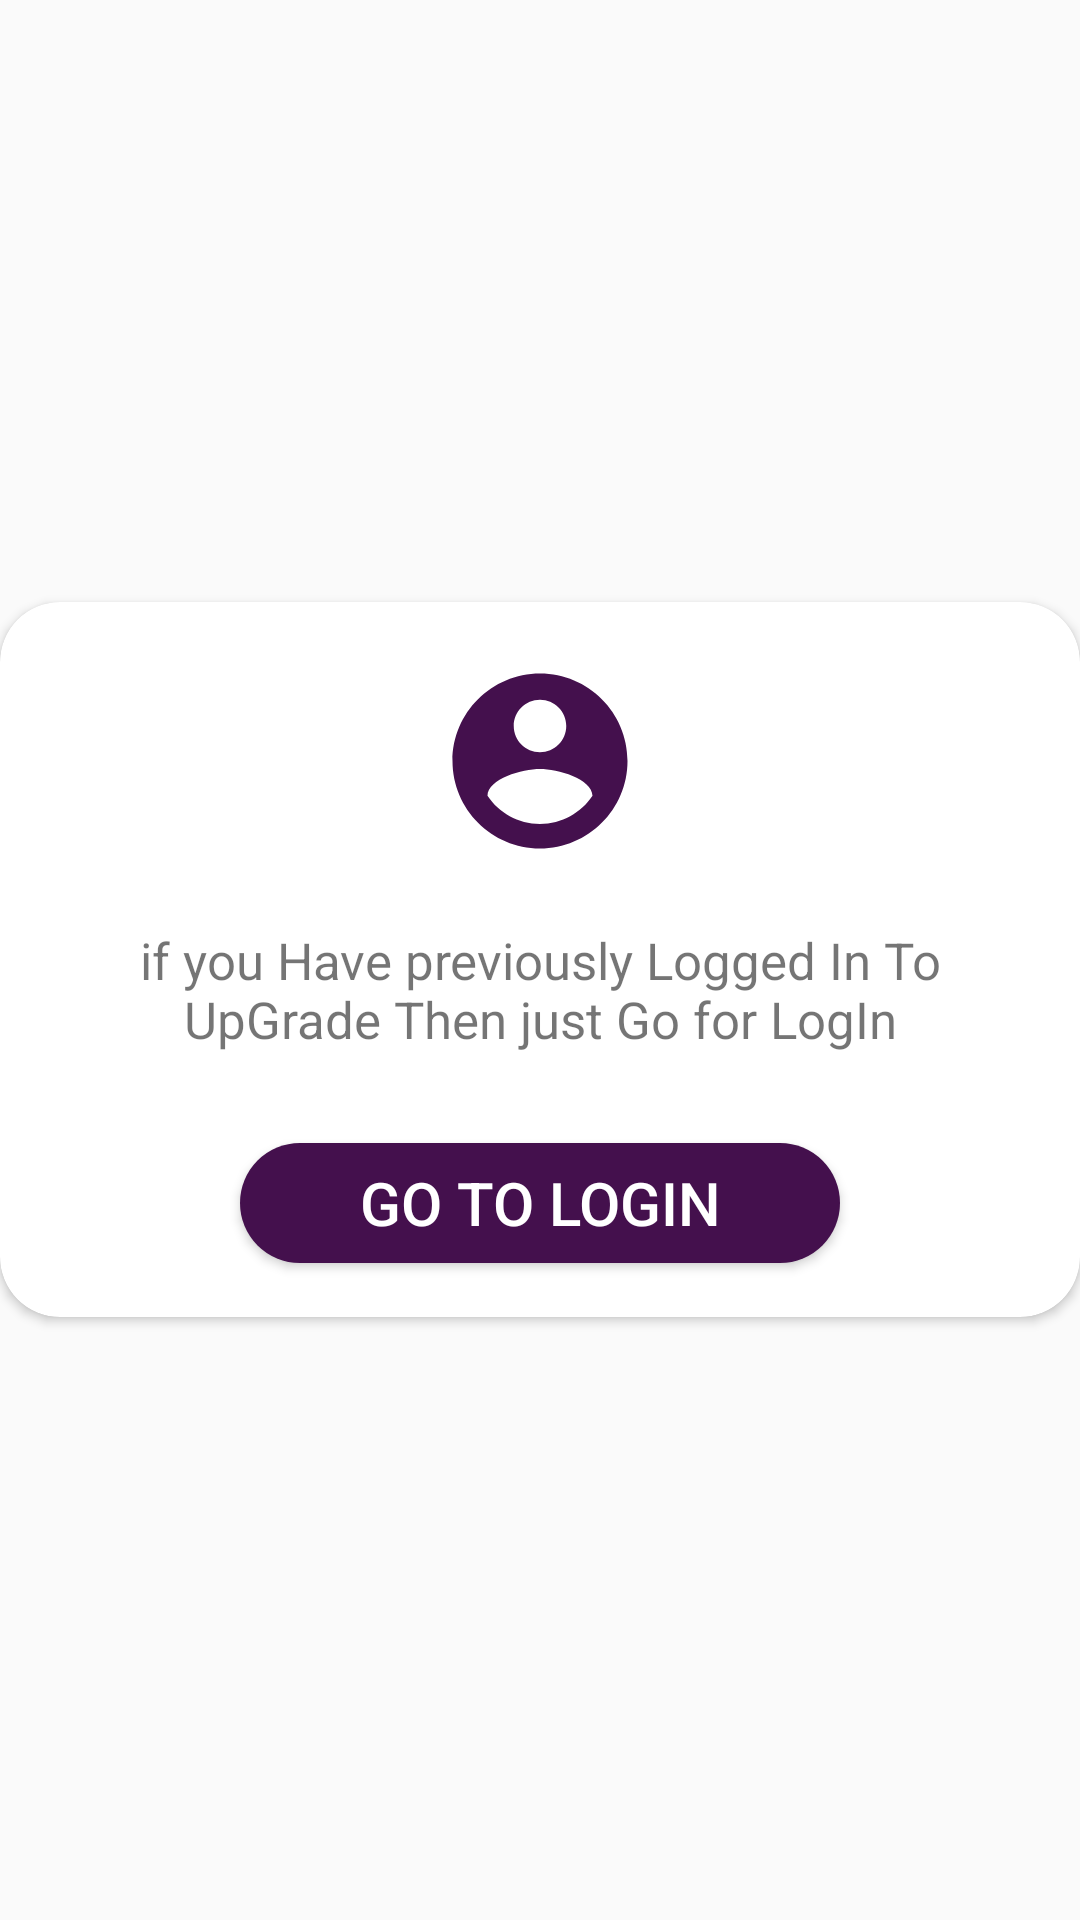

Named icons in this screenshot (1080 x 1920) and their bounding boxes, region(x1, y1, x2, y2):
account circle: region(452, 673, 628, 849)
